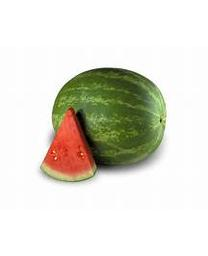watermelon: (51, 68, 168, 166), (39, 108, 98, 182)
